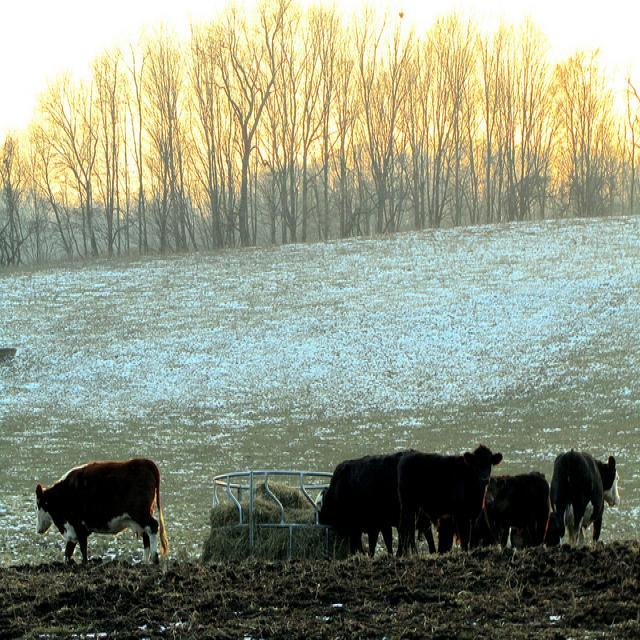cow: (31, 448, 167, 567), (384, 441, 501, 555), (313, 448, 414, 552), (550, 447, 619, 544), (484, 469, 550, 548)
